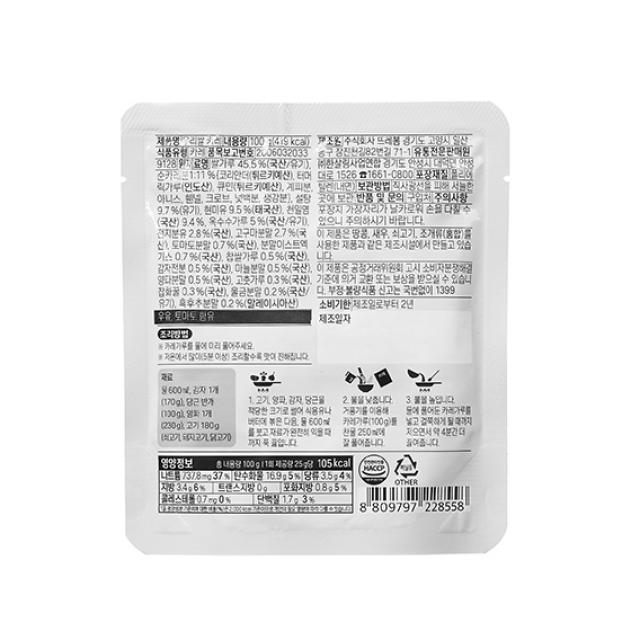Nutrition Label: (153, 451, 358, 518)
